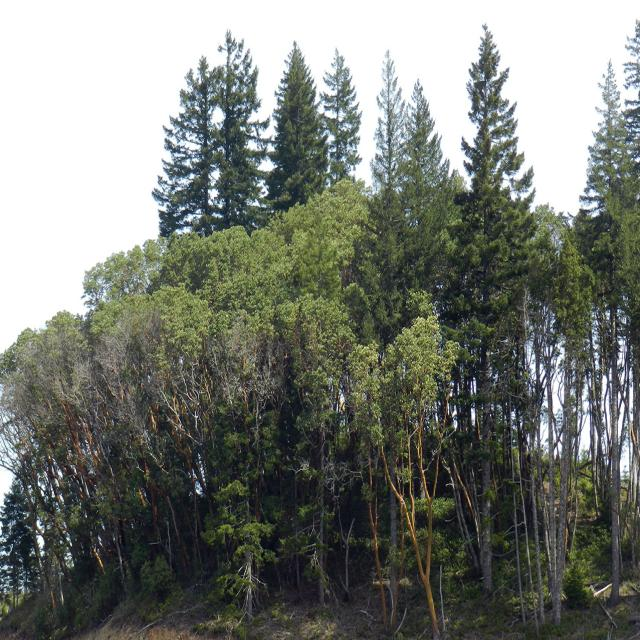Arbutus menziesii: (357, 301, 477, 640), (103, 296, 170, 580), (164, 295, 226, 571), (39, 300, 101, 574)
